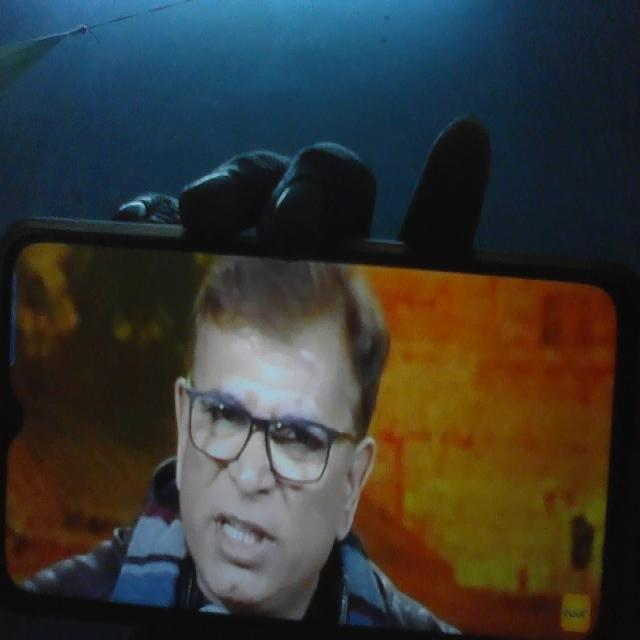fake: (160, 230, 370, 626)
